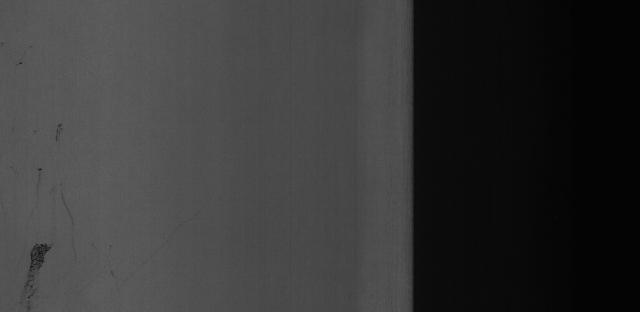inclusion: (19, 235, 51, 288), (43, 113, 70, 144), (28, 165, 45, 198)
